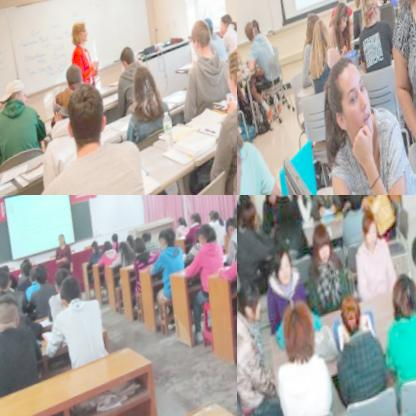head: (314, 48, 385, 159), (60, 79, 120, 152), (282, 298, 325, 358), (130, 62, 169, 118), (237, 271, 269, 326), (306, 221, 341, 269), (51, 87, 85, 131), (189, 18, 221, 63), (269, 241, 300, 287), (388, 270, 416, 319), (3, 74, 36, 114), (339, 293, 368, 335), (237, 77, 250, 165), (272, 195, 301, 233), (61, 276, 91, 312), (358, 210, 385, 250), (355, 0, 387, 32), (0, 293, 25, 333), (329, 0, 355, 37), (223, 44, 237, 112), (310, 17, 334, 56), (239, 197, 264, 232), (302, 8, 326, 44), (64, 61, 90, 92), (70, 17, 95, 49), (198, 14, 223, 45), (55, 268, 80, 296), (119, 45, 143, 74), (215, 10, 237, 40), (197, 224, 219, 250), (34, 263, 55, 289), (241, 18, 259, 47), (249, 16, 265, 40), (163, 230, 180, 252), (224, 215, 237, 241), (0, 268, 14, 292), (134, 237, 151, 256), (158, 232, 172, 249), (119, 240, 132, 257), (30, 267, 43, 283), (178, 217, 190, 234), (259, 195, 281, 204), (24, 262, 37, 277), (142, 232, 155, 246), (192, 214, 205, 228), (332, 0, 352, 9), (348, 0, 368, 9), (126, 234, 138, 249), (212, 213, 224, 227), (104, 240, 115, 254), (93, 240, 103, 253), (59, 234, 68, 246), (113, 235, 122, 246), (370, 0, 386, 6), (234, 208, 237, 221)
